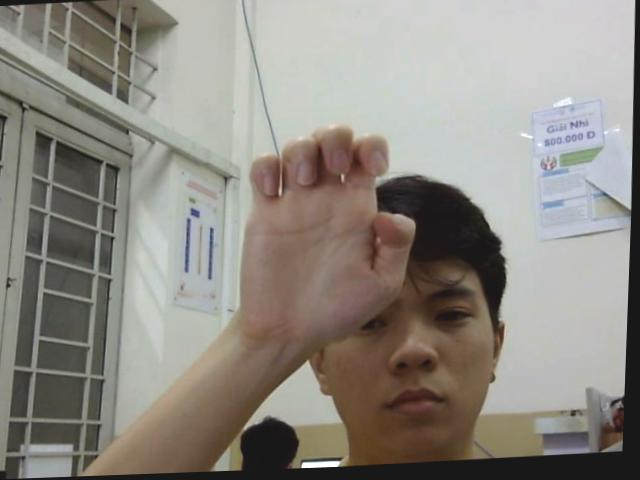E: (238, 119, 420, 339)
